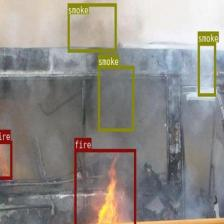fire: (74, 148, 136, 224), (0, 140, 12, 178)
smoke: (97, 65, 134, 131), (67, 3, 116, 52), (198, 42, 216, 96)
